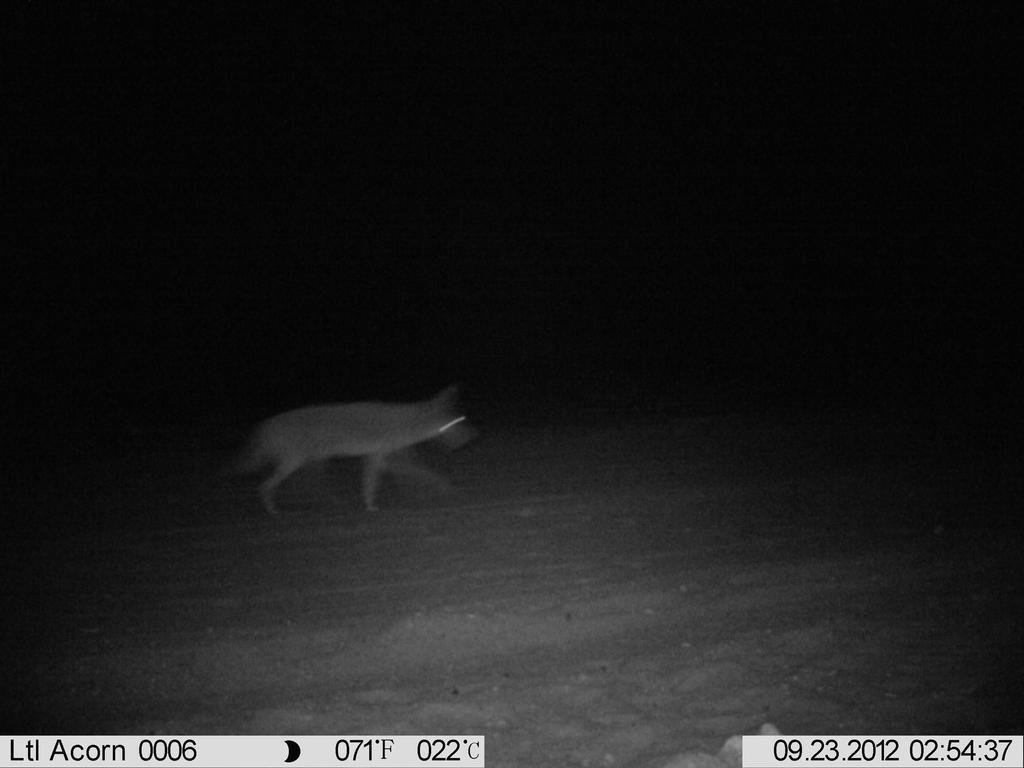coyote: (191, 377, 498, 527)
